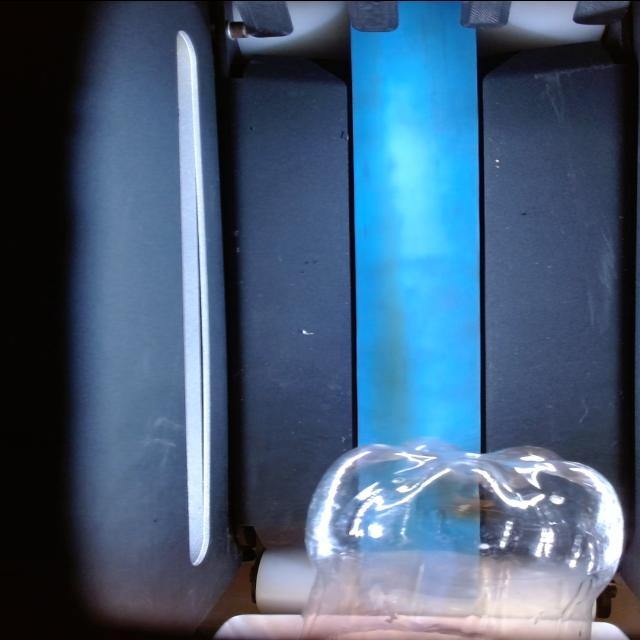bottom: (303, 440, 624, 640)
